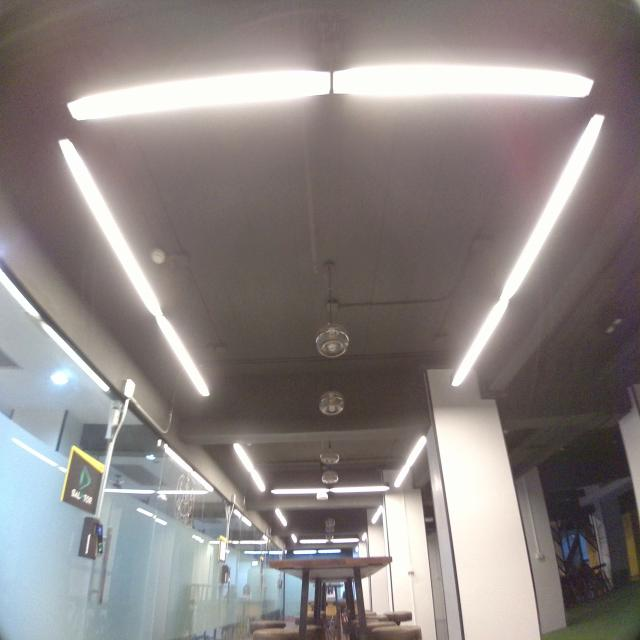lamp2_on: (436, 107, 617, 395), (49, 133, 221, 403), (59, 48, 606, 130)
